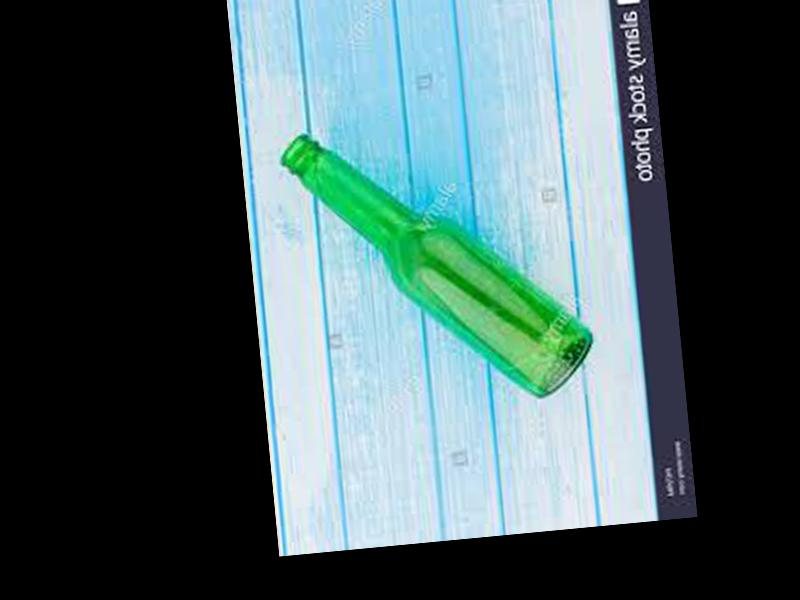Beer: (277, 105, 602, 423)
